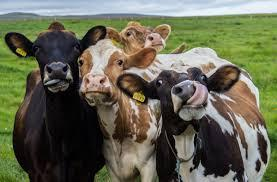cow: (77, 39, 217, 182), (116, 63, 271, 182), (4, 21, 107, 182), (105, 20, 171, 55), (4, 21, 6, 21)
